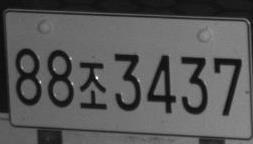3: (180, 56, 209, 114), (114, 53, 141, 111)
4: (146, 55, 176, 114)
7: (213, 57, 242, 116)
8: (14, 47, 42, 106), (46, 49, 74, 107)
조: (79, 61, 107, 110)
